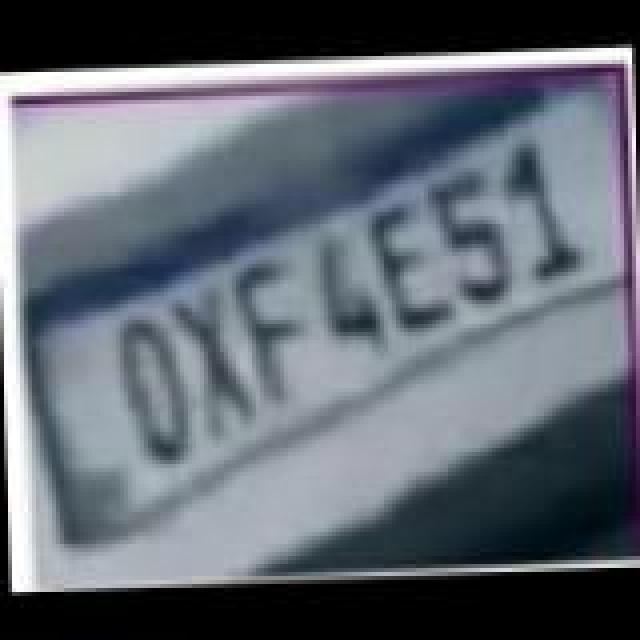1: (502, 140, 586, 284)
4: (314, 230, 390, 354)
5: (430, 174, 510, 306)
E: (366, 202, 454, 338)
F: (230, 258, 314, 406)
O: (114, 316, 194, 472)
X: (168, 290, 260, 442)
